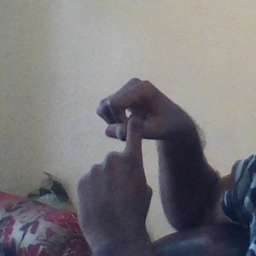Q: (73, 75, 178, 217)
